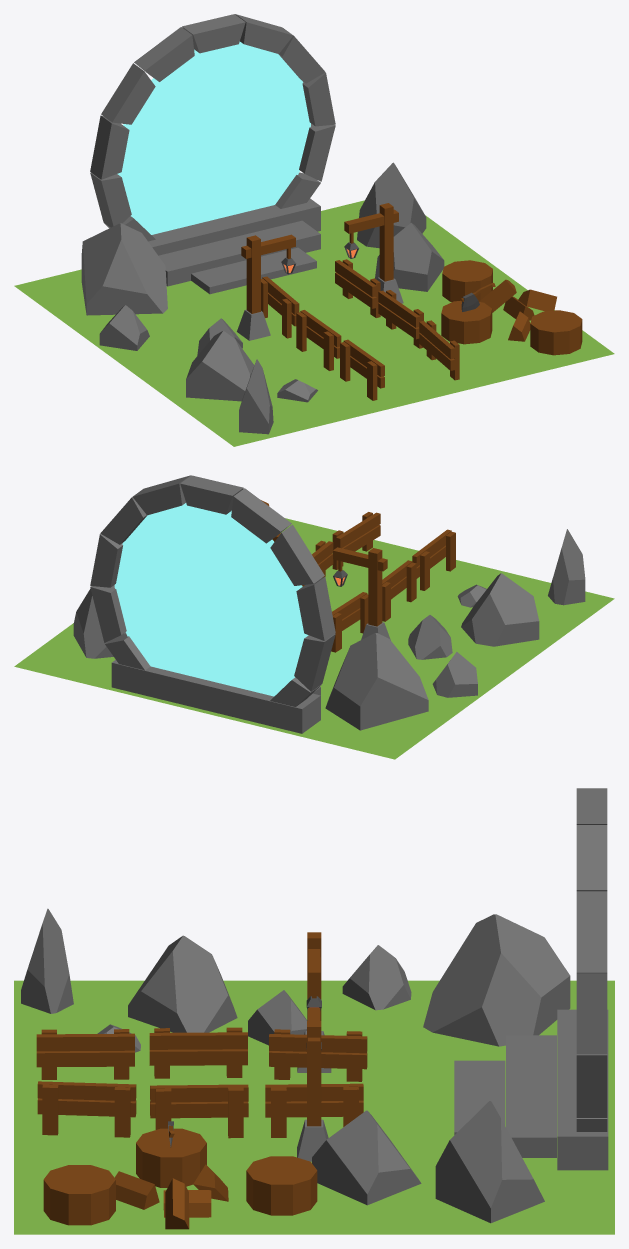
Rendered from portal.glb.
The picture shows the model from 3 angles, top to bottom: view 1: azimuth 30°, elevation 25°; view 2: azimuth 150°, elevation 25°; view 3: azimuth 270°, elevation 25°; orthographic projection. The views are drawn at different scales.
Parts seen in each view (by area): view 1: Plan, Cercle, Cube.001, Cube.039, Cube.040, Cube.022, Cube.023, Cube.020, Cube.041, Cylindre.002, Cylindre.003, Cube.031 (+26 smaller); view 2: Cercle, Plan, Cube.001, Cube.039, Cube.022, Cube.026, Cube.031, Cube.032, Cube.030, Cube.033, Cube.023, Cube.029 (+16 smaller); view 3: Plan, Cube.001, Cube.023, Cube.022, Cube.020, Cube.040, Cube.039, Cube, Cylindre.002, Cube.003, Cube.004, Cylindre.001 (+19 smaller).
Part boxes in pixels (x1,y1,x2,y2): Plan: (14, 200, 614, 446); Cercle: (117, 41, 310, 234); Cube.001: (81, 223, 167, 315); Cube.039: (148, 198, 320, 255); Cube.040: (158, 220, 320, 286); Cube.022: (186, 331, 254, 401); Cube.023: (357, 162, 426, 248); Cube.020: (375, 223, 444, 291); Cube.041: (191, 247, 316, 294); Cylindre.002: (530, 310, 582, 355); Cylindre.003: (441, 300, 492, 344); Cube.031: (101, 63, 155, 124); Cercle: (114, 503, 308, 696); Plan: (14, 518, 614, 759); Cube.001: (325, 633, 428, 730); Cube.039: (111, 660, 320, 733); Cube.022: (461, 573, 539, 646); Cube.026: (548, 529, 585, 605); Cube.031: (270, 524, 324, 585); Cube.032: (231, 488, 291, 543); Cube.030: (296, 577, 335, 640); Cube.033: (180, 475, 243, 514); Cube.023: (73, 588, 126, 658); Cube.029: (294, 634, 335, 691); Plan: (14, 980, 614, 1234); Cube.001: (423, 914, 570, 1046); Cube.023: (435, 1100, 544, 1223); Cube.022: (128, 935, 237, 1032); Cube.020: (312, 1110, 421, 1205); Cube.040: (506, 1035, 556, 1157); Cube.039: (557, 1009, 608, 1170); Cube: (37, 1081, 136, 1137); Cylindre.002: (43, 1165, 115, 1225); Cube.003: (149, 1027, 247, 1078); Cube.004: (36, 1029, 134, 1079); Cylindre.001: (246, 1156, 317, 1215).
Size of the model in its own units: 4 by 2.25 by 4.
